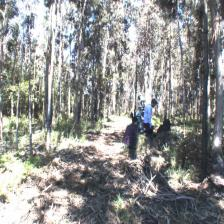trunktrack_idkeyframe: (212, 62, 224, 155), (202, 62, 210, 166)
